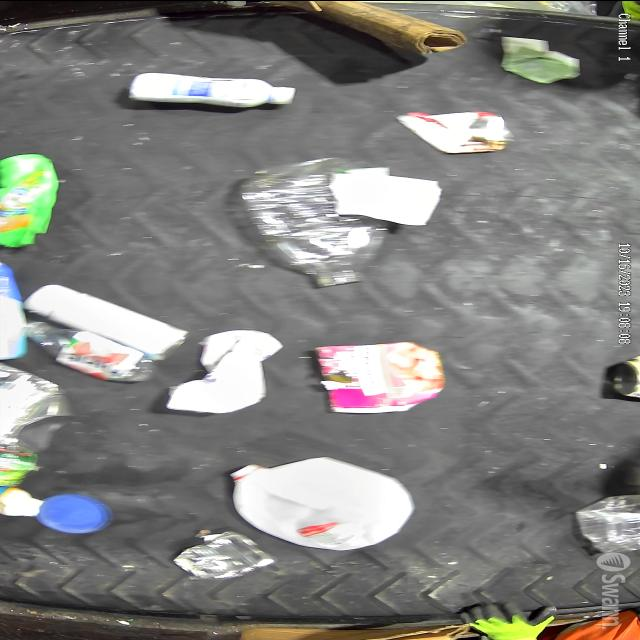can: (25, 280, 192, 363), (0, 361, 81, 452), (396, 109, 514, 154), (175, 530, 274, 581), (608, 354, 640, 401)
milk_jug: (221, 452, 422, 552), (163, 329, 291, 417)
non_white_jug: (0, 150, 64, 248), (0, 258, 32, 361)
plastic_bottle: (240, 157, 392, 290), (27, 317, 160, 383)
